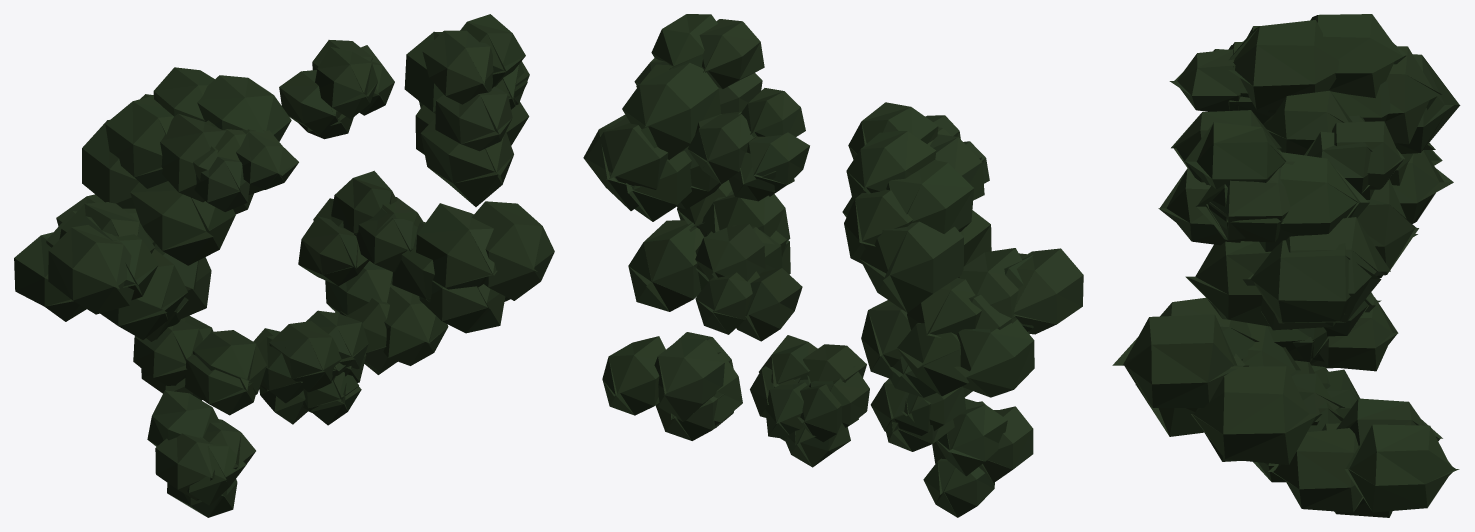
The model's file is tree_m11_far.obj.
The picture shows the model from 3 angles, left to right: view 1: azimuth 30°, elevation 25°; view 2: azimuth 150°, elevation 25°; view 3: azimuth 270°, elevation 25°; orthographic projection. The views are drawn at different scales.
Size of the model in its own units: 1.82 by 1.57 by 1.02.
1 material, 1 textured.
